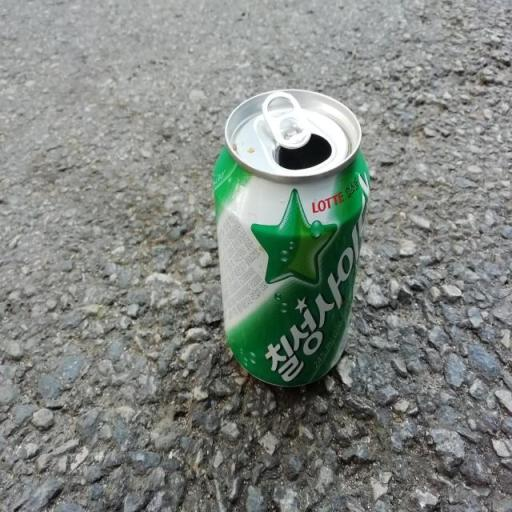metal: (201, 78, 383, 422)
